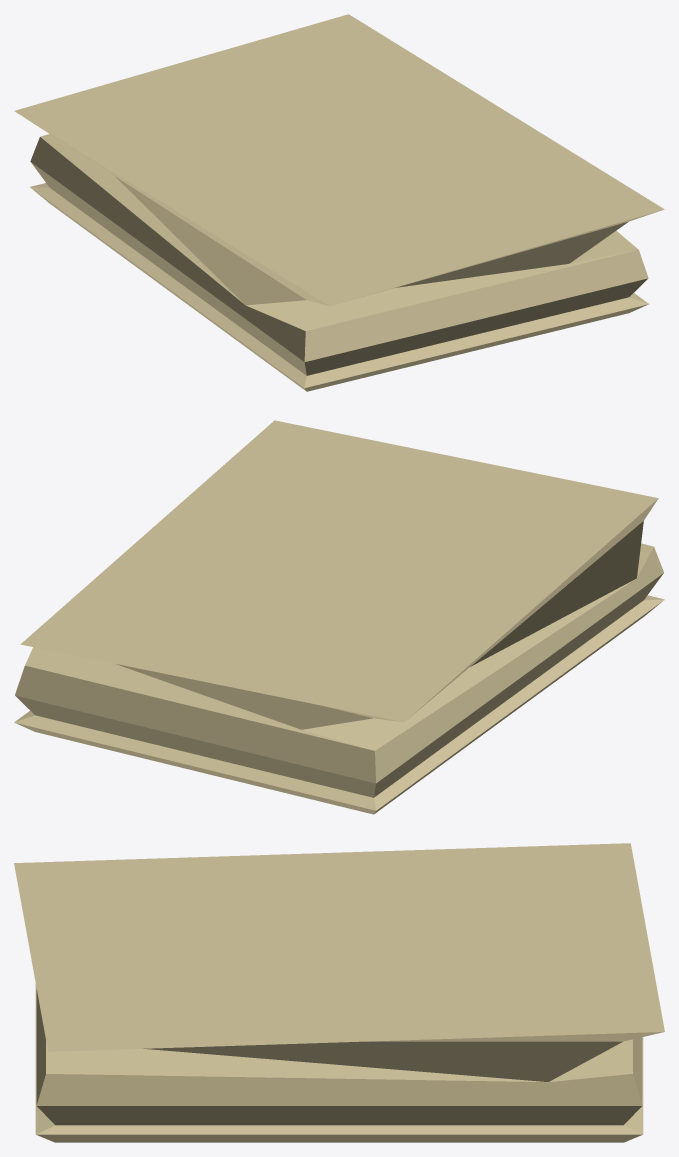
The model's file is SM_PaperStack_02.fbx.
3 views of the same model, one above another, from view 1: azimuth 30°, elevation 25°; view 2: azimuth 150°, elevation 25°; view 3: azimuth 270°, elevation 25° (orthographic). The views are drawn at different scales.
Parts seen in each view (by area): view 1: SM_PaperStack_02; view 2: SM_PaperStack_02; view 3: SM_PaperStack_02.
Boxes of the visible parts, x1,y1,x2,y2 form: SM_PaperStack_02: [14, 14, 664, 391]; SM_PaperStack_02: [14, 420, 664, 814]; SM_PaperStack_02: [14, 843, 664, 1142].
Size of the model in its own units: 25.22 by 6.11 by 33.24.
